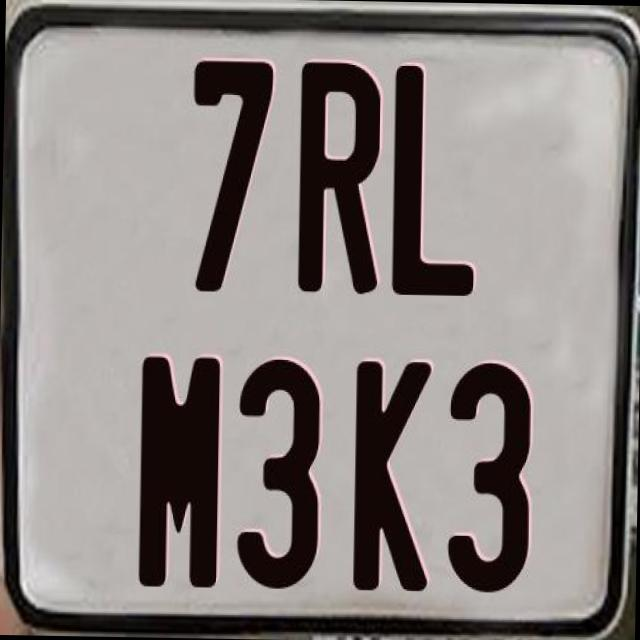3: (234, 358, 324, 596), (446, 360, 533, 596)
7: (187, 59, 270, 295)
K: (353, 358, 437, 591)
L: (391, 65, 477, 298)
M: (138, 354, 228, 586)
R: (296, 62, 388, 297)
